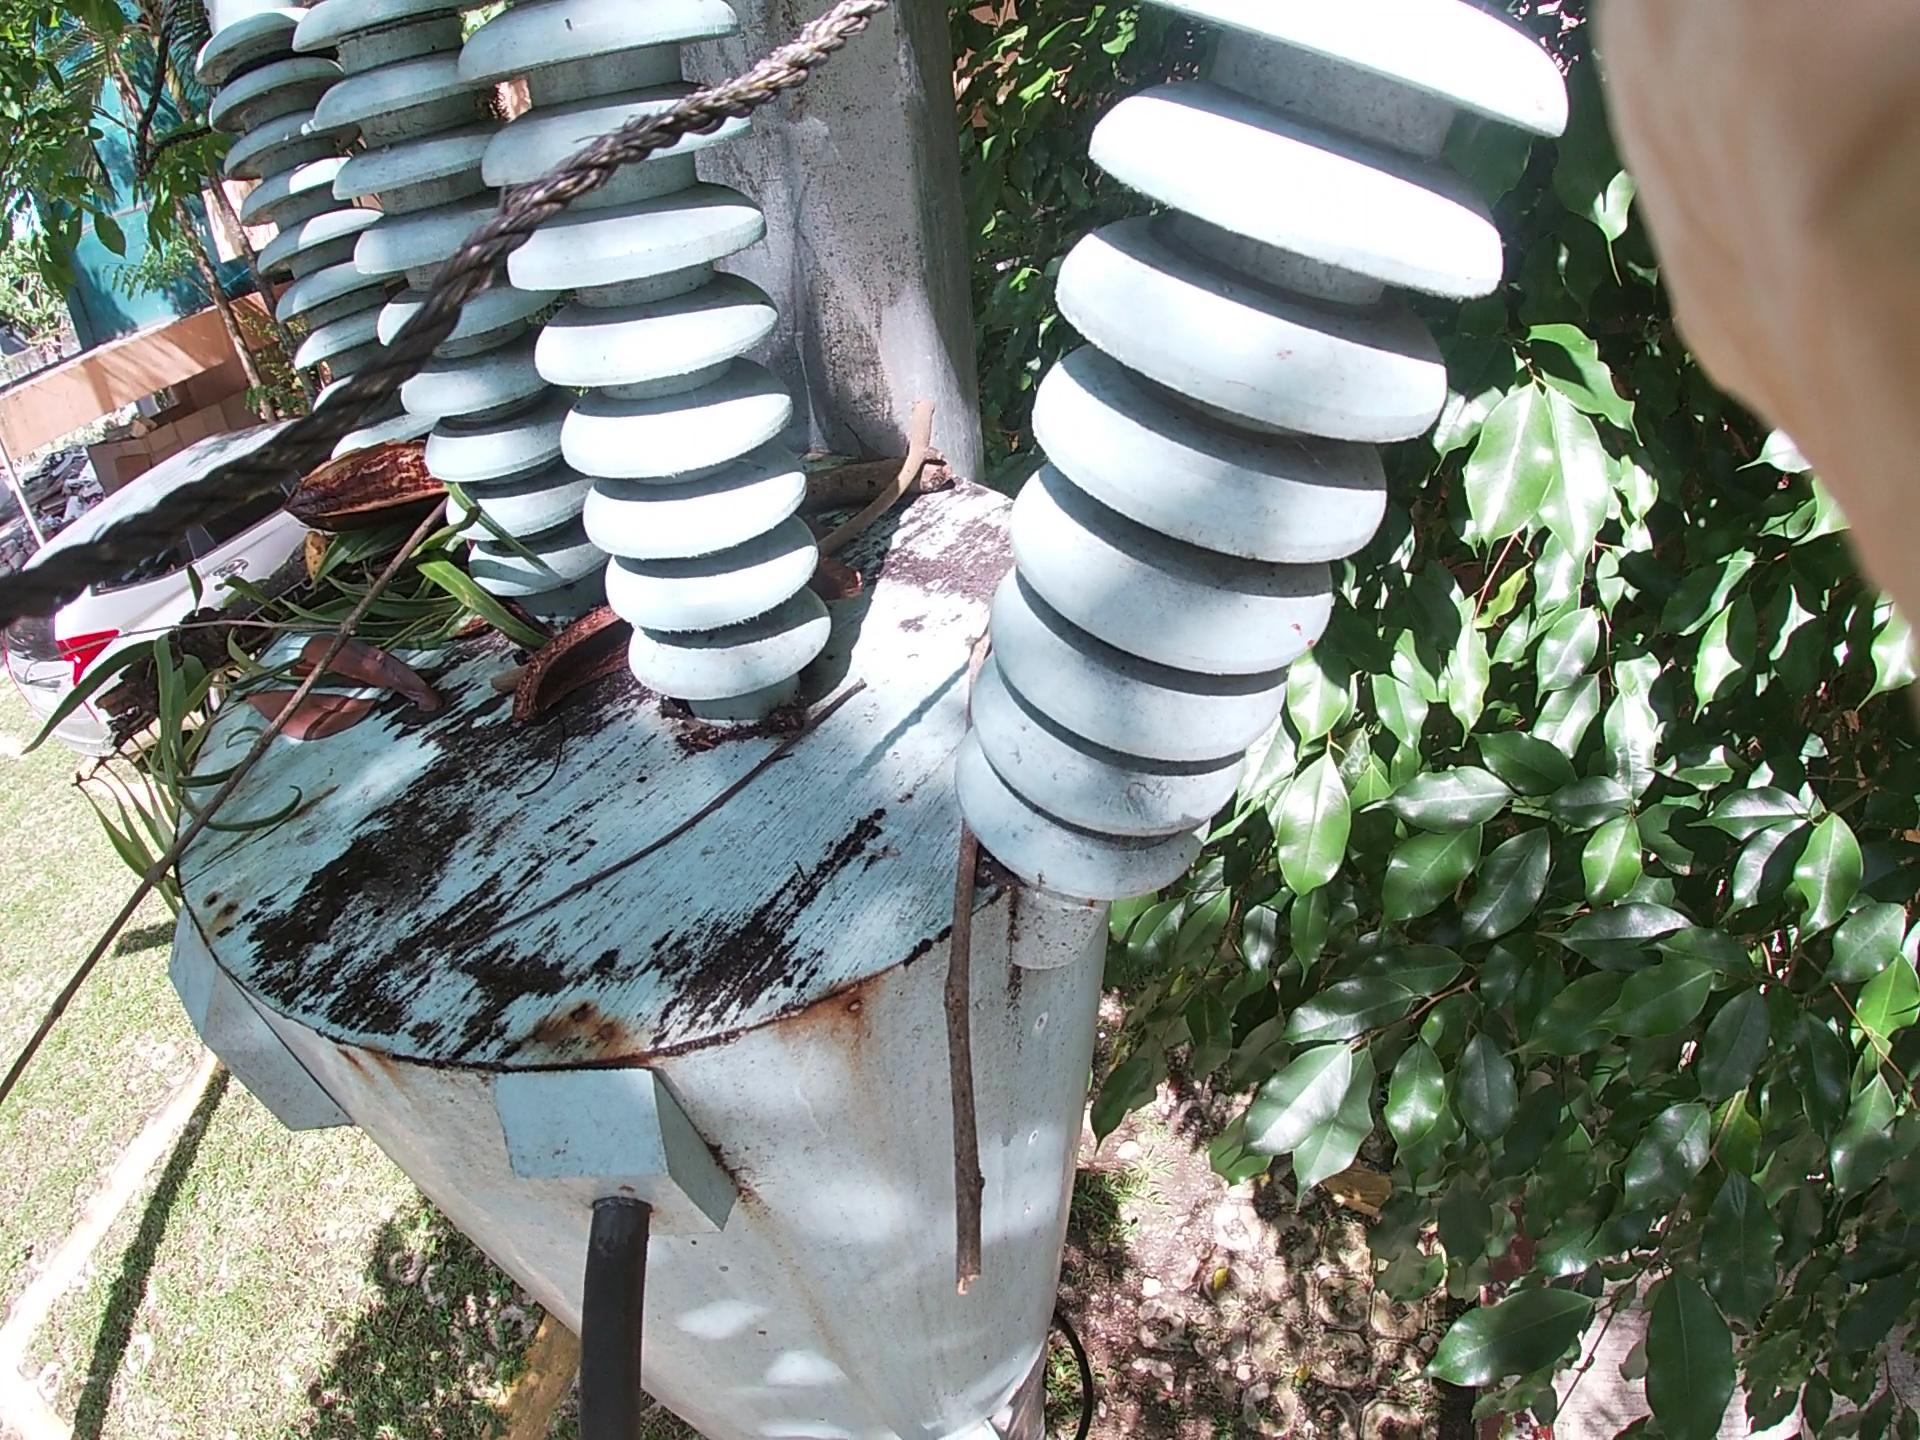branch with leaves: (122, 402, 479, 824)
leaf: (280, 554, 401, 790)
mahogany fruit: (281, 408, 523, 532), (466, 601, 694, 712)
tree branch: (32, 504, 432, 1071), (454, 690, 869, 948), (800, 331, 1023, 575), (948, 743, 977, 1295)
